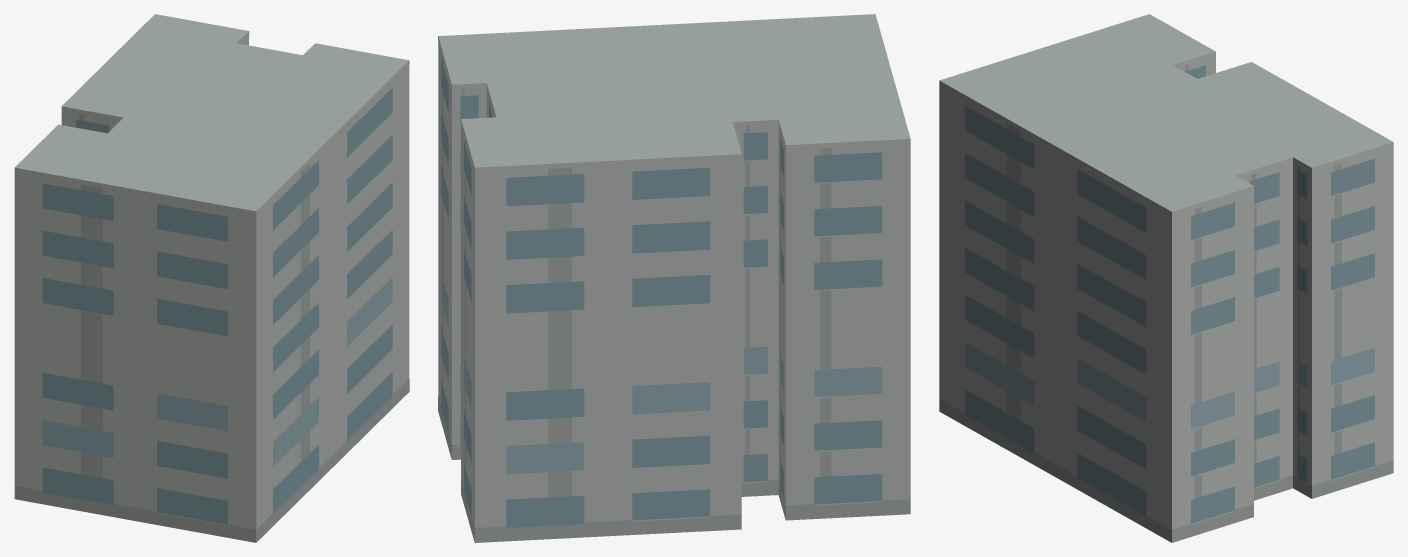
Rendered from residential-24e8093e-4ae9-4bd9-aab8-c4977360437b.glb.
The picture shows the model from 3 angles, left to right: view 1: azimuth 30°, elevation 25°; view 2: azimuth 150°, elevation 25°; view 3: azimuth 270°, elevation 25°; orthographic projection. The views are drawn at different scales.
Visible parts, largest first — view 1: residential-24e8093e-4ae9-4bd9-aab8-c4977360437b.tmp; view 2: residential-24e8093e-4ae9-4bd9-aab8-c4977360437b.tmp; view 3: residential-24e8093e-4ae9-4bd9-aab8-c4977360437b.tmp.
Part boxes in pixels (left/top/right/bottom): residential-24e8093e-4ae9-4bd9-aab8-c4977360437b.tmp: left=14, top=14, right=409, bottom=542; residential-24e8093e-4ae9-4bd9-aab8-c4977360437b.tmp: left=438, top=14, right=910, bottom=542; residential-24e8093e-4ae9-4bd9-aab8-c4977360437b.tmp: left=939, top=14, right=1393, bottom=542.
Size of the model in its own units: 24.11 by 18.8 by 23.4.
